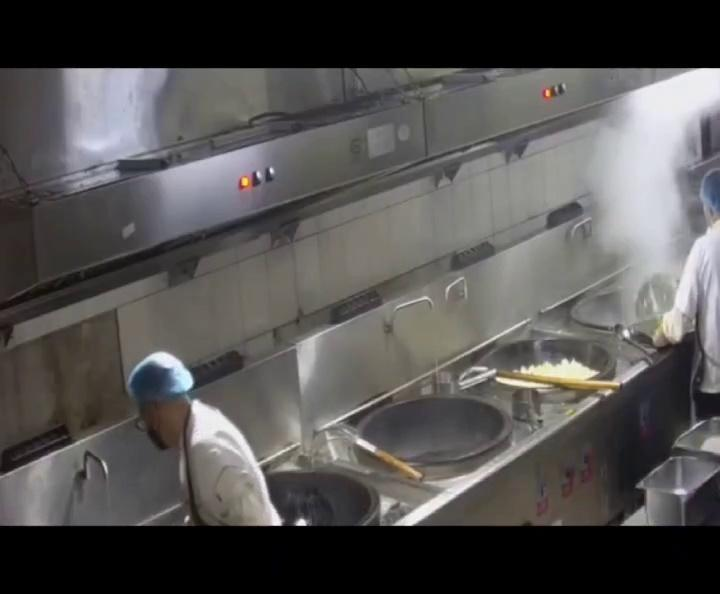gloves: (125, 348, 200, 406)
